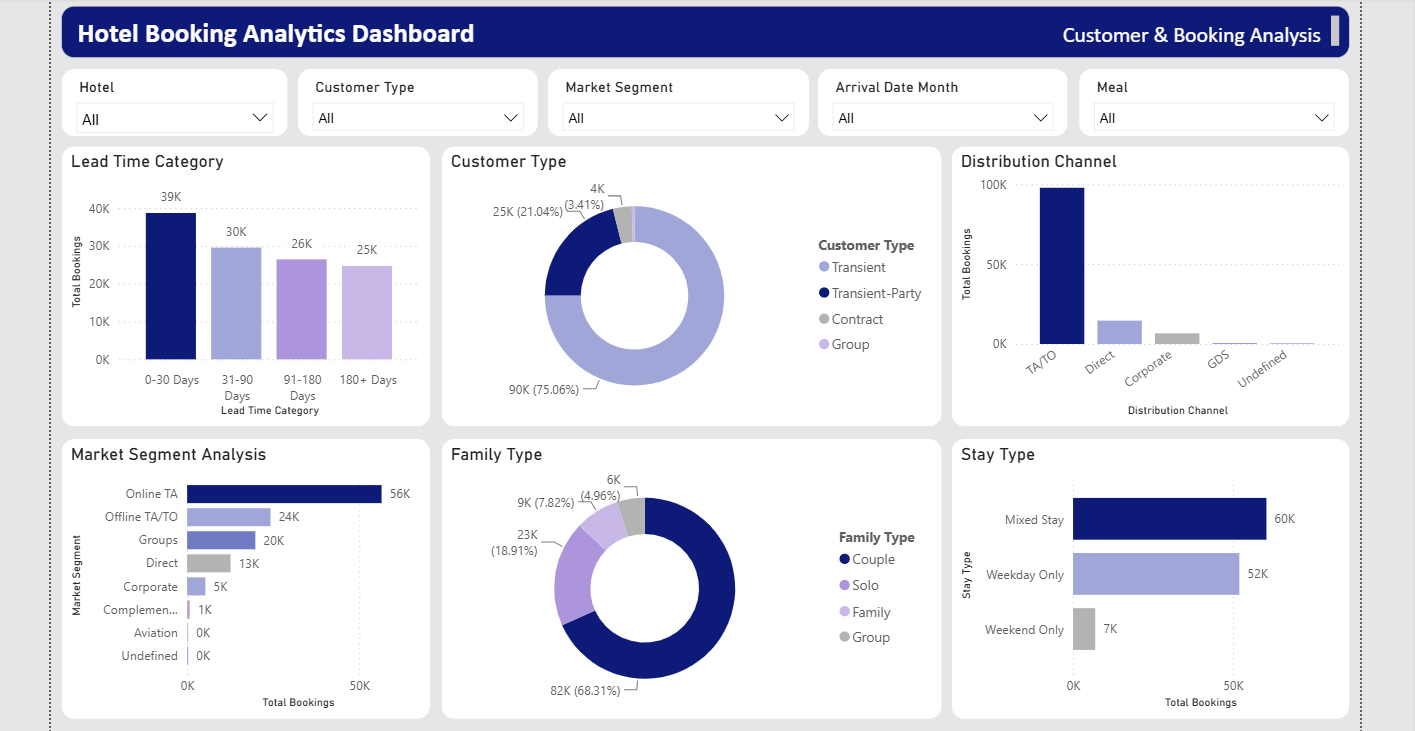

The page's visual inventory and layout, read from the dashboard file:
{"tool":"powerbi","page":{"name":"Customer & Booking Analysis","canvas":[1280,720],"ordinal":1},"visuals":[{"type":"textbox","box":[9.8,8.6,1260.7,51.4],"z":0},{"type":"slicer","fields":{"Values":["hotel_bookings.Hotel"]},"box":[9.8,69.7,222.6,67.3],"z":1000},{"type":"slicer","fields":{"Values":["hotel_bookings.Customer Type"]},"box":[240.9,69.7,236,67.3],"z":2000},{"type":"slicer","fields":{"Values":["hotel_bookings.Market Segment"]},"box":[485.5,69.7,256.8,67.3],"z":3000},{"type":"slicer","fields":{"Values":["hotel_bookings.Arrival Date Month"]},"box":[749.6,69.7,245.8,67.3],"z":4000},{"type":"barChart","title":"Market Segment Analysis","fields":{"Category":["hotel_bookings.Market Segment"],"Y":["Measures (2).Total Bookings"]},"box":[9.8,431.7,362,275.1],"z":5000},{"type":"barChart","title":"Stay Type","fields":{"Y":["Measures (2).Total Bookings"],"Category":["hotel_bookings.Stay Type"]},"box":[880.4,431.7,390.1,275.1],"z":6000},{"type":"lineStackedColumnComboChart","title":"Lead Time Category","fields":{"Category":["hotel_bookings.Lead Time Category"],"Y":["Measures (2).Total Bookings"]},"box":[9.8,145.5,362,275.1],"z":7000},{"type":"lineStackedColumnComboChart","title":"Distribution Channel","fields":{"Category":["hotel_bookings.Distribution Channel"],"Y":["Measures (2).Total Bookings"]},"box":[880.4,145.5,390.1,275.1],"z":8000},{"type":"donutChart","title":"Family Type","fields":{"Y":["Measures (2).Total Bookings"],"Category":["hotel_bookings.Family Type"]},"box":[381.5,431.7,490.4,275.1],"z":9000},{"type":"donutChart","title":"Customer Type","fields":{"Category":["hotel_bookings.Customer Type"],"Y":["Measures (2).Total Bookings"]},"box":[381.5,145.5,490.4,275.1],"z":10000},{"type":"slicer","fields":{"Values":["hotel_bookings.Meal"]},"box":[1005.2,69.7,265.4,67.3],"z":11000}]}

Visuals, with their boxes on the page's 1280x720 design canvas (x1, y1, x2, y2). These are canvas units, not pixel positions in the 1415x731 screenshot, which may show the page scaled, cropped or inside an application window:
textbox: pyautogui.locateOnScreen(10, 9, 1270, 60)
slicer - hotel_bookings.Hotel: pyautogui.locateOnScreen(10, 70, 232, 137)
slicer - hotel_bookings.Customer Type: pyautogui.locateOnScreen(241, 70, 477, 137)
slicer - hotel_bookings.Market Segment: pyautogui.locateOnScreen(486, 70, 742, 137)
slicer - hotel_bookings.Arrival Date Month: pyautogui.locateOnScreen(750, 70, 995, 137)
"Market Segment Analysis" barChart: pyautogui.locateOnScreen(10, 432, 372, 707)
"Stay Type" barChart: pyautogui.locateOnScreen(880, 432, 1270, 707)
"Lead Time Category" lineStackedColumnComboChart: pyautogui.locateOnScreen(10, 146, 372, 421)
"Distribution Channel" lineStackedColumnComboChart: pyautogui.locateOnScreen(880, 146, 1270, 421)
"Family Type" donutChart: pyautogui.locateOnScreen(382, 432, 872, 707)
"Customer Type" donutChart: pyautogui.locateOnScreen(382, 146, 872, 421)
slicer - hotel_bookings.Meal: pyautogui.locateOnScreen(1005, 70, 1271, 137)
